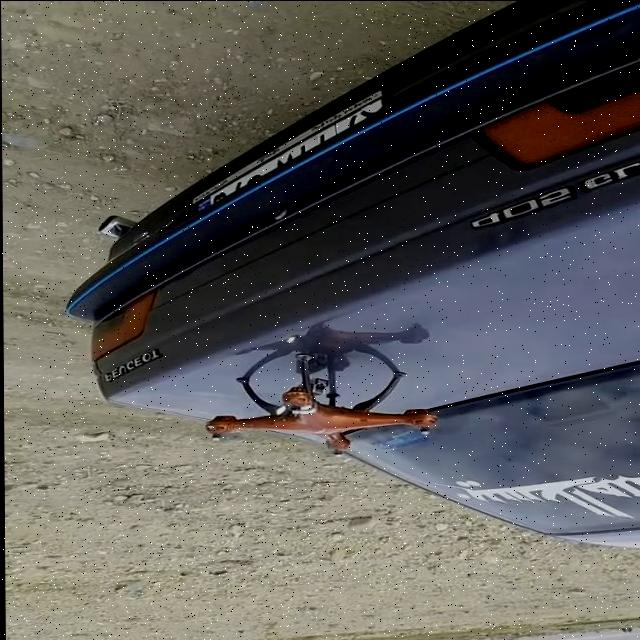drone: (193, 349, 454, 458)
